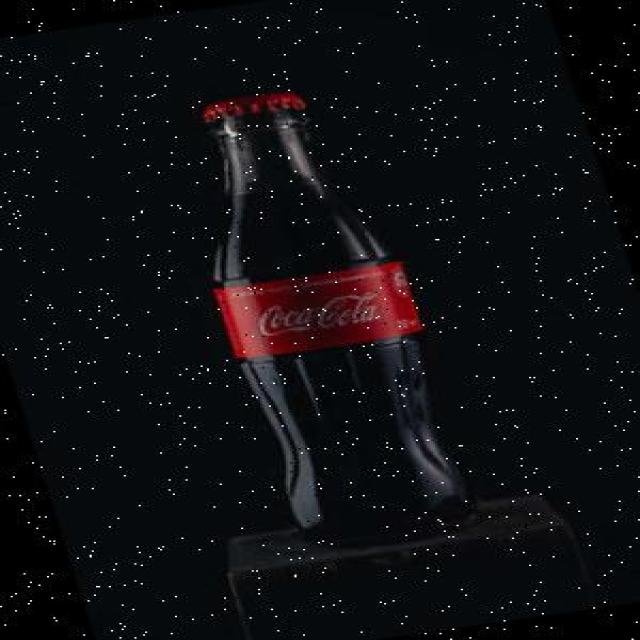coca-cola: (139, 78, 486, 553)
